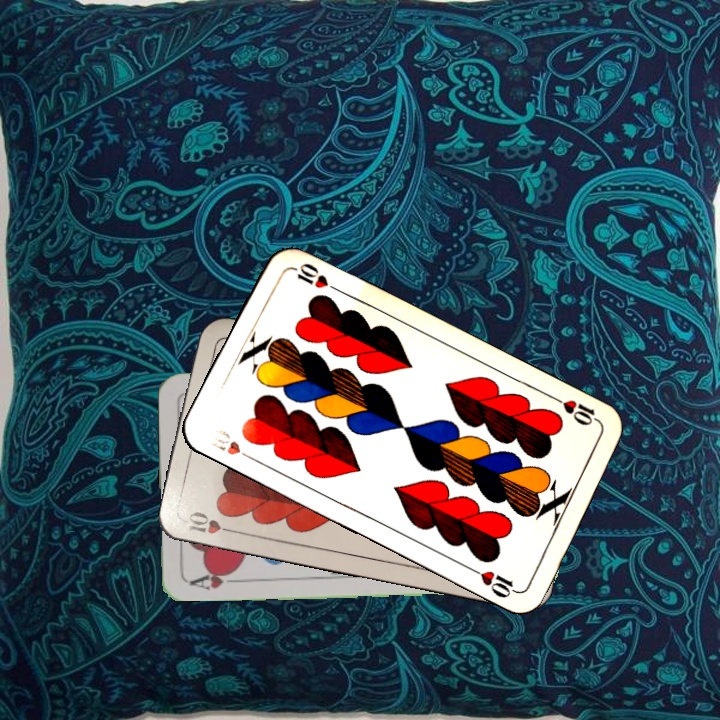H10: (206, 424, 259, 464), (549, 392, 604, 428), (184, 507, 241, 537)
HA: (185, 565, 243, 592)
